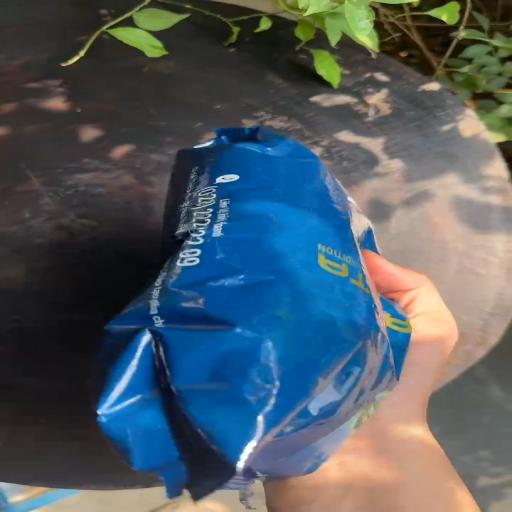cafe_hat: (97, 127, 410, 498)
